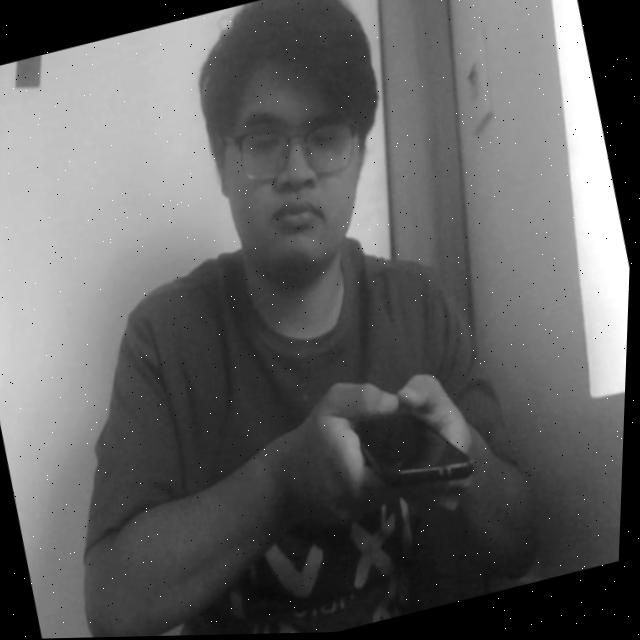phone: (307, 342, 516, 540)
